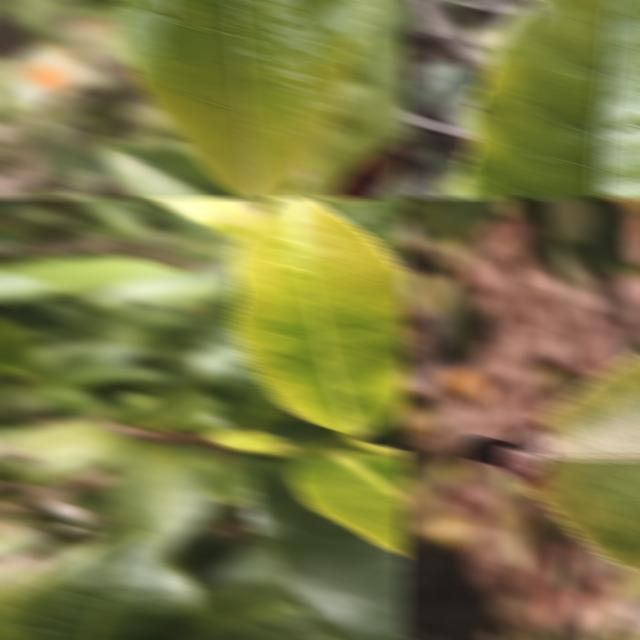Leaf: (114, 0, 373, 199), (231, 197, 407, 438), (463, 353, 640, 573), (460, 0, 640, 199), (246, 456, 407, 640), (0, 528, 200, 640), (304, 0, 407, 199), (291, 450, 407, 557), (113, 438, 217, 549), (101, 139, 244, 199), (539, 197, 634, 276), (147, 197, 268, 239), (412, 197, 521, 240), (433, 280, 481, 364), (491, 495, 534, 571), (581, 581, 626, 640)
